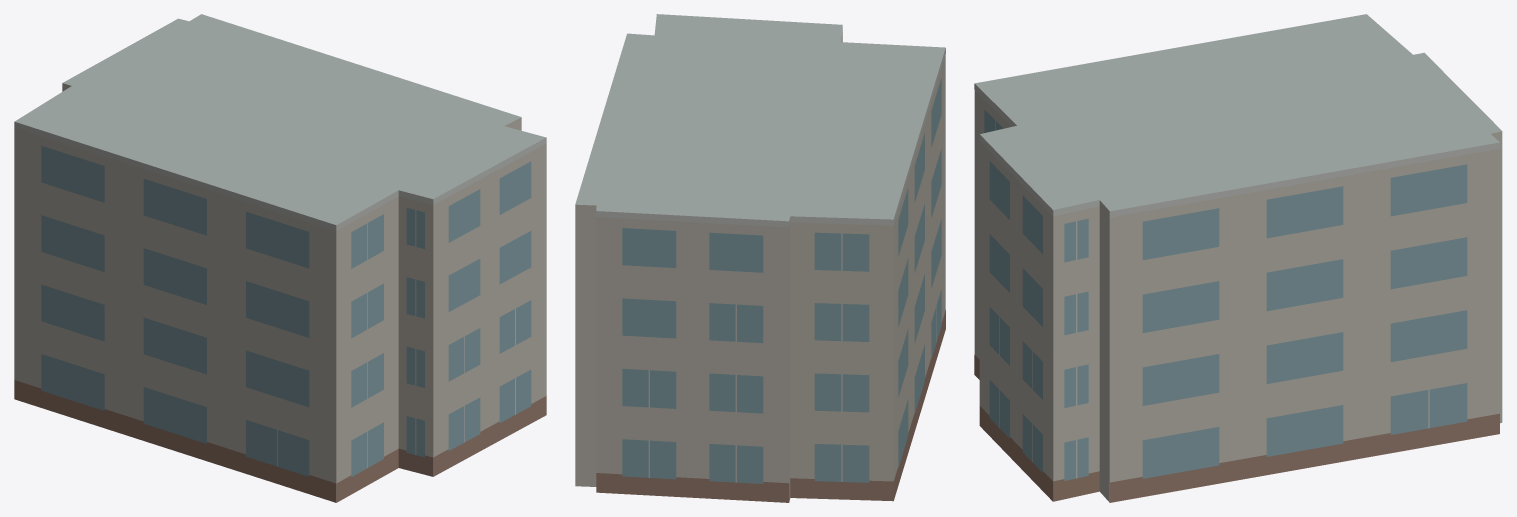
File: survey-upis-32710155.glb
The picture shows the model from 3 angles, left to right: view 1: azimuth 30°, elevation 25°; view 2: azimuth 150°, elevation 25°; view 3: azimuth 270°, elevation 25°; orthographic projection. The views are drawn at different scales.
Visible parts, largest first — view 1: survey-upis-32710155.tmp; view 2: survey-upis-32710155.tmp; view 3: survey-upis-32710155.tmp.
Part boxes in pixels (bbox=[...]): survey-upis-32710155.tmp: bbox=[14, 14, 546, 502]; survey-upis-32710155.tmp: bbox=[575, 14, 945, 502]; survey-upis-32710155.tmp: bbox=[974, 14, 1502, 502].
Size of the model in its own units: 16.63 by 11.45 by 18.8.
